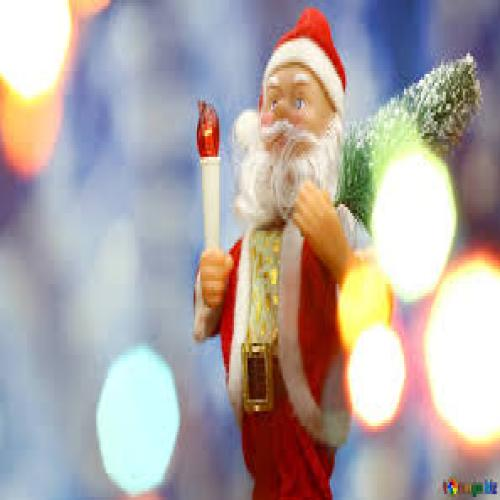Santa: (192, 6, 374, 497)
